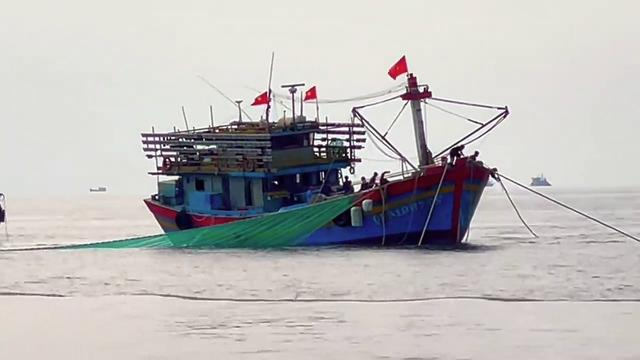Ship: (131, 90, 486, 262)
